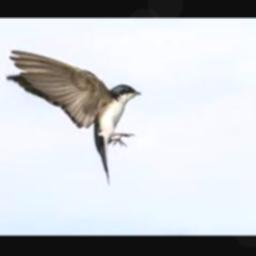Swallow: (6, 50, 140, 185)
